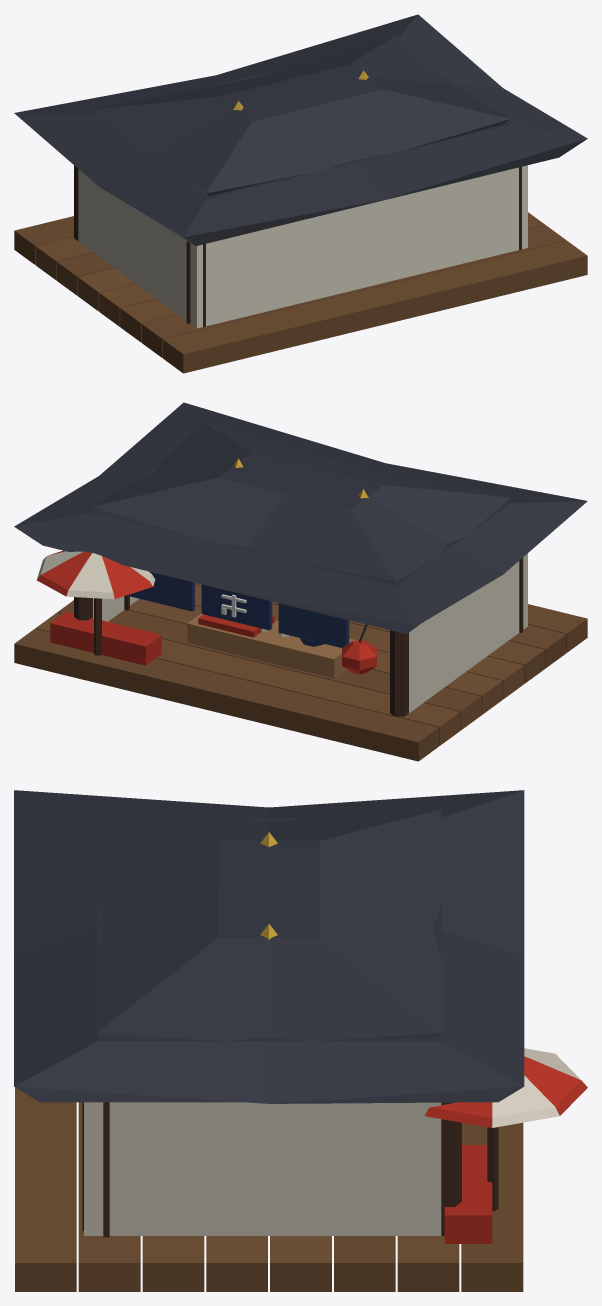
File: Decor_SamuraiShrine_Teahouse.fbx
The picture shows the model from 3 angles, top to bottom: view 1: azimuth 30°, elevation 25°; view 2: azimuth 150°, elevation 25°; view 3: azimuth 270°, elevation 25°; orthographic projection. The views are drawn at different scales.
Parts seen in each view (by area): view 1: Teahouse_Body; view 2: Teahouse_Body; view 3: Teahouse_Body.
Boxes of the visible parts, x1,y1,x2,y2 form: Teahouse_Body: (14,14,587,373); Teahouse_Body: (14,402,587,761); Teahouse_Body: (14,790,587,1291).
Size of the model in its own units: 22 by 9.2 by 18.
